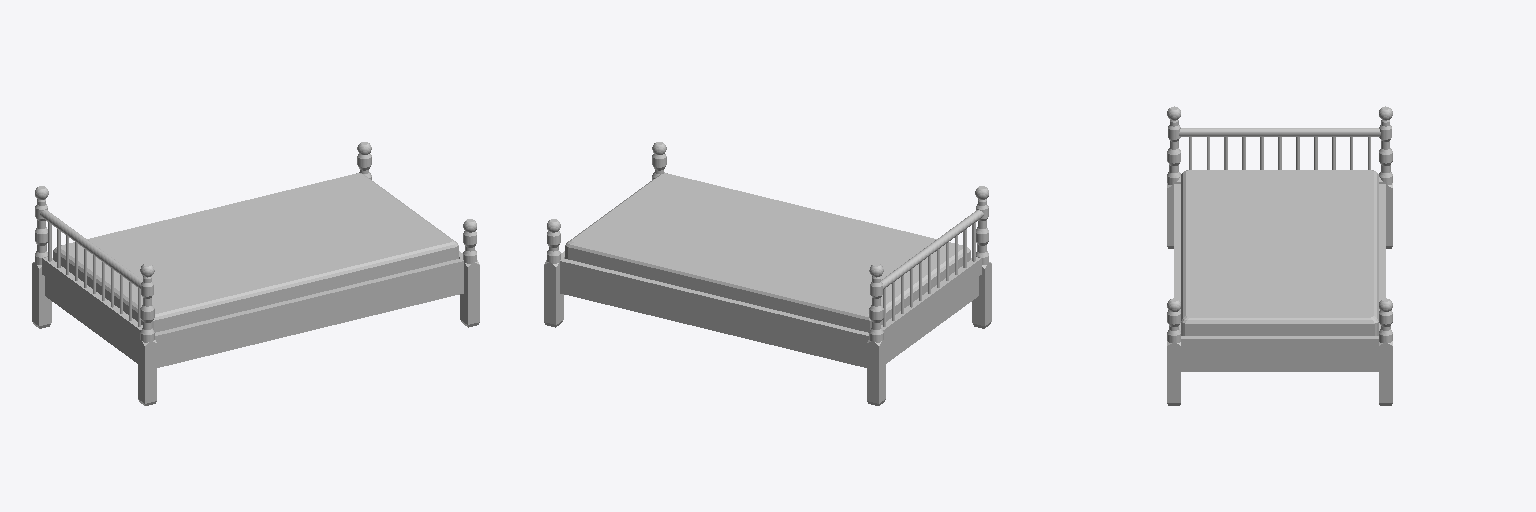
File: bed1.obj
The picture shows the model from 3 angles: view 1: azimuth 30°, elevation 25°; view 2: azimuth 150°, elevation 25°; view 3: azimuth 270°, elevation 25°; orthographic projection.
Parts seen in each view (by area): view 1: Cube, Cube.004, Cube.009, Sphère.002, Cube.001, Sphère.003, Sphère.001, Cylindre.015; view 2: Cube, Cube.004, Cube.009, Sphère.003, Cube.001, Sphère.002, Cube.007, Cylindre.015; view 3: Cube, Cube.001, Cube.009, Cube.004, Sphère.001, Cube.007, Cylindre.015, Sphère.002, Sphère.003.
Part boxes in pixels (bbox=[...]): Cube: bbox=[53, 173, 458, 332]; Cube.004: bbox=[52, 258, 463, 367]; Cube.009: bbox=[40, 210, 142, 343]; Sphère.002: bbox=[138, 263, 156, 405]; Cube.001: bbox=[45, 251, 462, 363]; Sphère.003: bbox=[32, 186, 51, 328]; Sphère.001: bbox=[460, 219, 479, 327]; Cylindre.015: bbox=[48, 222, 140, 326]; Cube: bbox=[565, 173, 970, 332]; Cube.004: bbox=[560, 258, 971, 367]; Cube.009: bbox=[881, 210, 983, 343]; Sphère.003: bbox=[867, 263, 885, 405]; Cube.001: bbox=[561, 251, 978, 363]; Sphère.002: bbox=[972, 186, 991, 328]; Cube.007: bbox=[544, 219, 563, 327]; Cylindre.015: bbox=[883, 222, 975, 326]; Cube: bbox=[1181, 170, 1378, 335]; Cube.001: bbox=[1181, 336, 1378, 371]; Cube.009: bbox=[1173, 128, 1386, 194]; Cube.004: bbox=[1174, 184, 1385, 330]; Sphère.001: bbox=[1167, 298, 1180, 405]; Cube.007: bbox=[1379, 298, 1392, 405]; Cylindre.015: bbox=[1189, 137, 1370, 169]; Sphère.002: bbox=[1167, 106, 1180, 248]; Sphère.003: bbox=[1379, 106, 1392, 248].
Bounding box in the file's own units: 2.16 × 0.8504 × 1.26.